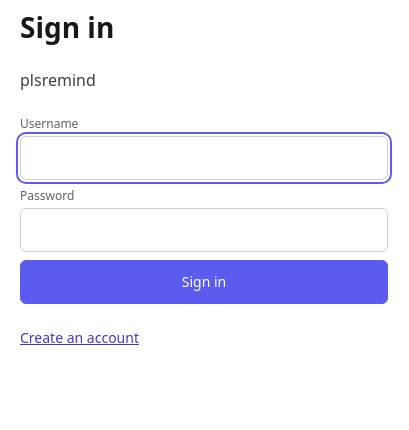
Test: a wrong password is said next to the form and the name stays
Type "mia" into the field labelled "Username" at coordinates (204, 158), box [20,136,388,180]
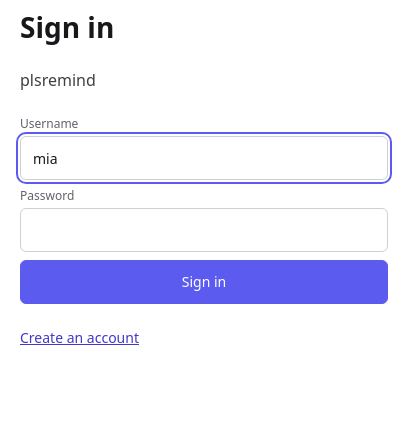
Type "nope" into the password field labelled "Password" at coordinates (204, 230), box [20,208,388,252]
Then press Enter
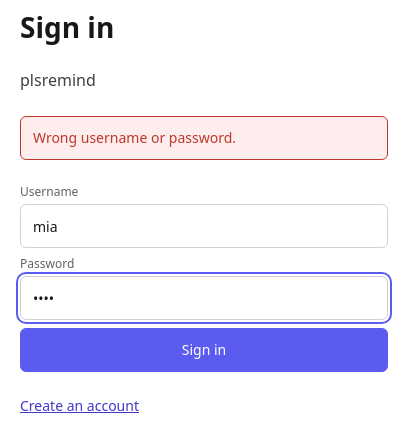
expect the message reads "Wrong username or password.": met, box [33,128,236,147]
